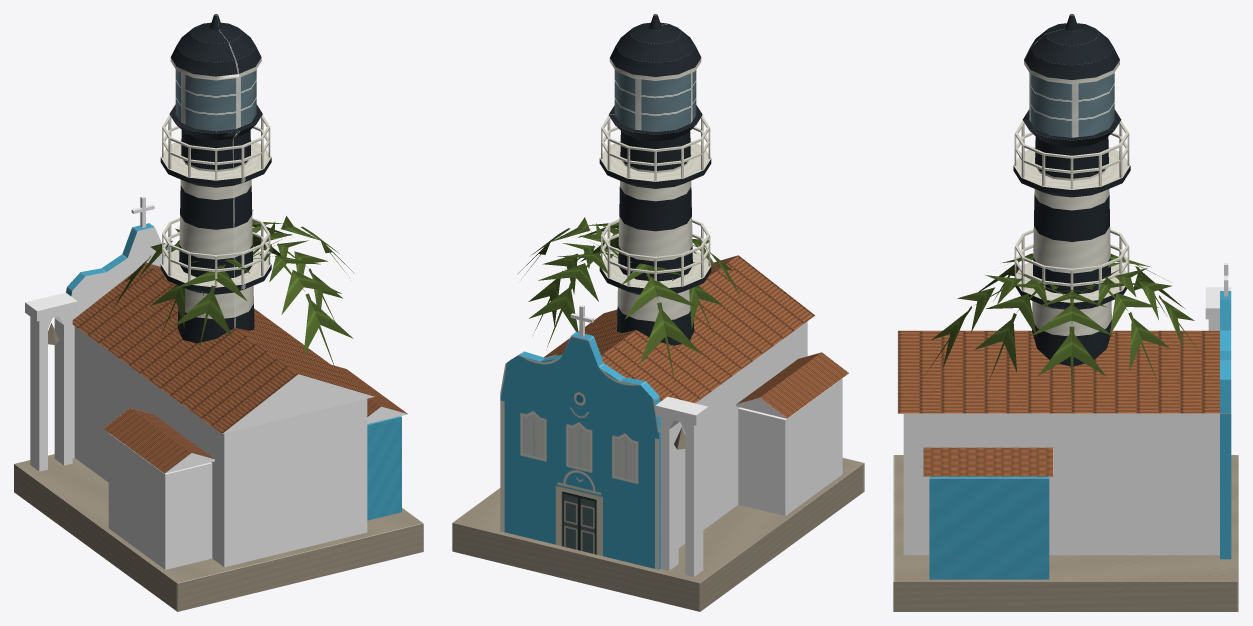
Rendered from library.glb.
3 views of the same model, side by side, from view 1: azimuth 30°, elevation 25°; view 2: azimuth 150°, elevation 25°; view 3: azimuth 270°, elevation 25° (orthographic). The views are drawn at different scales.
Visible parts, largest first — view 1: boipeba-divino-church, abrolhos-lighthouse, boipeba-coconut-palm; view 2: boipeba-divino-church, abrolhos-lighthouse, boipeba-coconut-palm; view 3: boipeba-divino-church, abrolhos-lighthouse, boipeba-coconut-palm.
Boxes of the visible parts, <box> form: boipeba-divino-church: <box>14,196,423,611</box>; abrolhos-lighthouse: <box>160,14,271,343</box>; boipeba-coconut-palm: <box>113,210,354,371</box>; boipeba-divino-church: <box>452,255,864,611</box>; abrolhos-lighthouse: <box>599,14,711,345</box>; boipeba-coconut-palm: <box>517,217,746,385</box>; boipeba-divino-church: <box>893,263,1238,611</box>; abrolhos-lighthouse: <box>1013,14,1130,366</box>; boipeba-coconut-palm: <box>924,253,1200,397</box>.
Size of the model in its own units: 2.11 by 3.96 by 2.3.
1 material, 1 textured.
